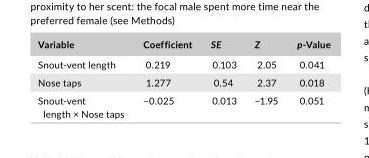table: (37, 37, 329, 118)
table column: (37, 37, 132, 118), (132, 37, 200, 118), (200, 37, 244, 118), (286, 37, 329, 118), (244, 37, 286, 118)
table column header: (37, 37, 329, 53)
table row: (37, 90, 329, 118), (37, 53, 329, 72), (37, 72, 329, 90), (37, 37, 329, 53)
